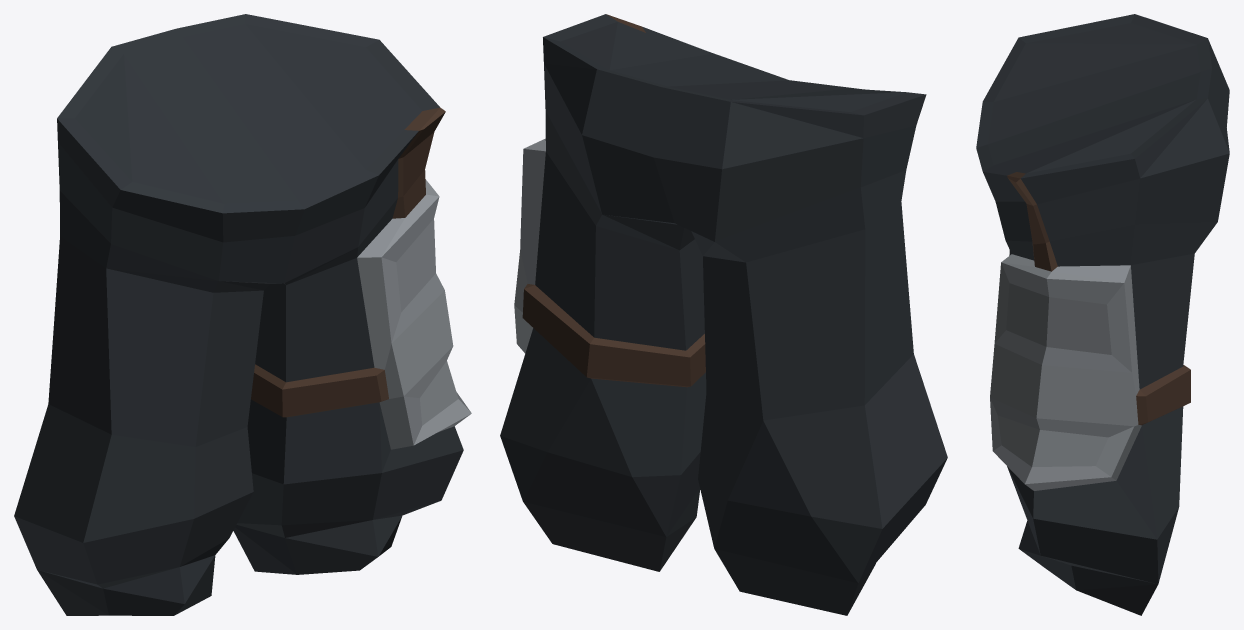
The model's file is Chr_Hips_Female_21_Static.fbx.
3 views of the same model, side by side, from view 1: azimuth 30°, elevation 25°; view 2: azimuth 150°, elevation 25°; view 3: azimuth 270°, elevation 25° (orthographic). The views are drawn at different scales.
Visible parts, largest first — view 1: Chr_Hips_Female_21_Static; view 2: Chr_Hips_Female_21_Static; view 3: Chr_Hips_Female_21_Static.
Boxes of the visible parts, left/top/right/bottom form: Chr_Hips_Female_21_Static: left=14, top=14, right=471, bottom=615; Chr_Hips_Female_21_Static: left=500, top=14, right=947, bottom=615; Chr_Hips_Female_21_Static: left=976, top=14, right=1229, bottom=615.
Size of the model in its own units: 0.454 by 0.5806 by 0.2764.
